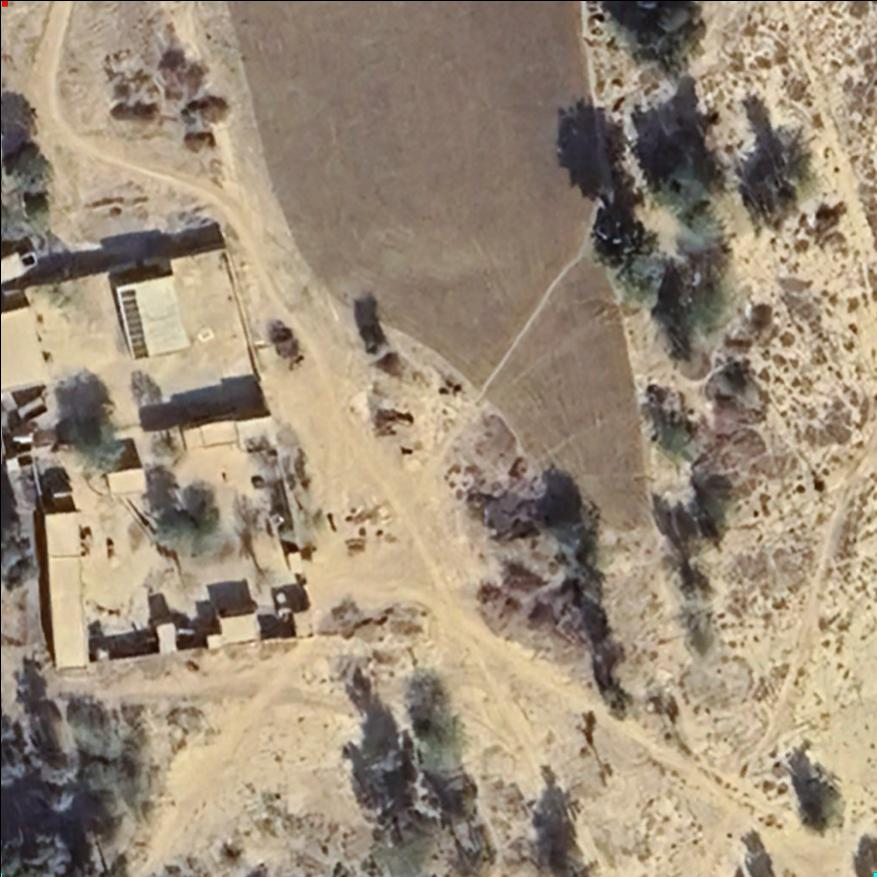Solarpanel: (112, 284, 153, 367)
